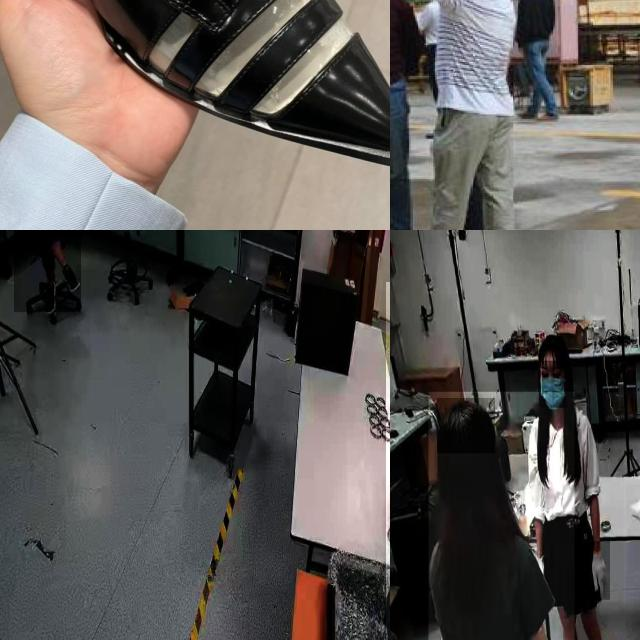Sandals: (0, 0, 390, 181)
face_mask: (542, 360, 567, 408)
hand_glove: (592, 541, 610, 601)
head_nohelmet: (437, 398, 495, 454), (536, 333, 570, 359)
person: (428, 391, 575, 640), (512, 330, 623, 640), (417, 0, 521, 230), (390, 0, 428, 230), (513, 0, 568, 131), (14, 230, 81, 313)
shoes: (38, 272, 58, 317), (60, 261, 82, 300), (540, 110, 563, 125), (514, 108, 538, 121)
